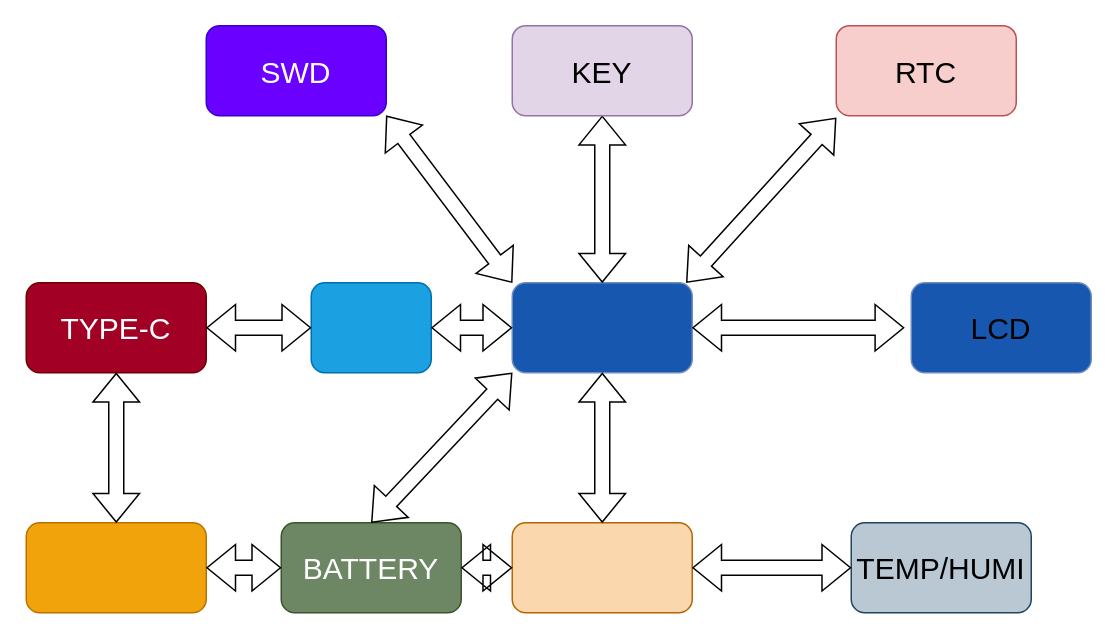
Image size: 1118x641. Some labels were removed from this diagram. The shapes that lost their labels are listed below. From the top down, each one's centre as x and y in pixels, then its label:
At [370,327]: "CH343".
At [601,327]: "STM32L031".
At [115,567]: "CHARGE".
At [601,567]: "TLS8521".
